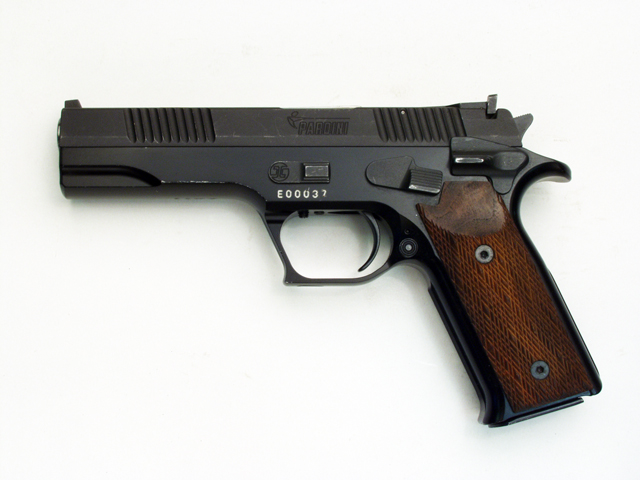gun: (37, 89, 608, 435)
